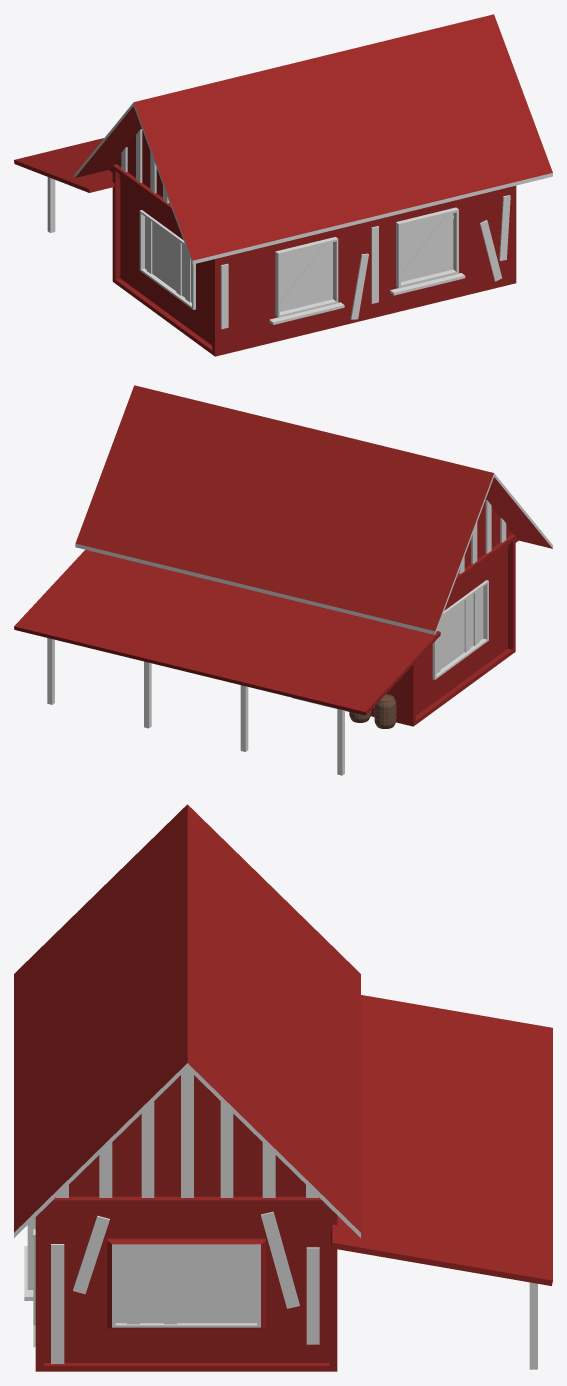
File: Barn_A.fbx
3 views of the same model, one above another, from view 1: azimuth 30°, elevation 25°; view 2: azimuth 150°, elevation 25°; view 3: azimuth 270°, elevation 25° (orthographic). The views are drawn at different scales.
Parts seen in each view (by area): view 1: Cube.023, Cube.042; view 2: Cube.023, Cube.042, Cylinder.022; view 3: Cube.023, Cube.042.
Part boxes in pixels (box(x1,y1,x2,y2)): Cube.023: box(14, 14, 552, 356); Cube.042: box(121, 129, 510, 329); Cube.023: box(14, 385, 552, 775); Cube.042: box(436, 500, 506, 673); Cylinder.022: box(349, 694, 396, 728); Cube.023: box(14, 804, 552, 1371); Cube.042: box(24, 1069, 319, 1363).
Size of the model in its own units: 5594 by 3323 by 4923.
